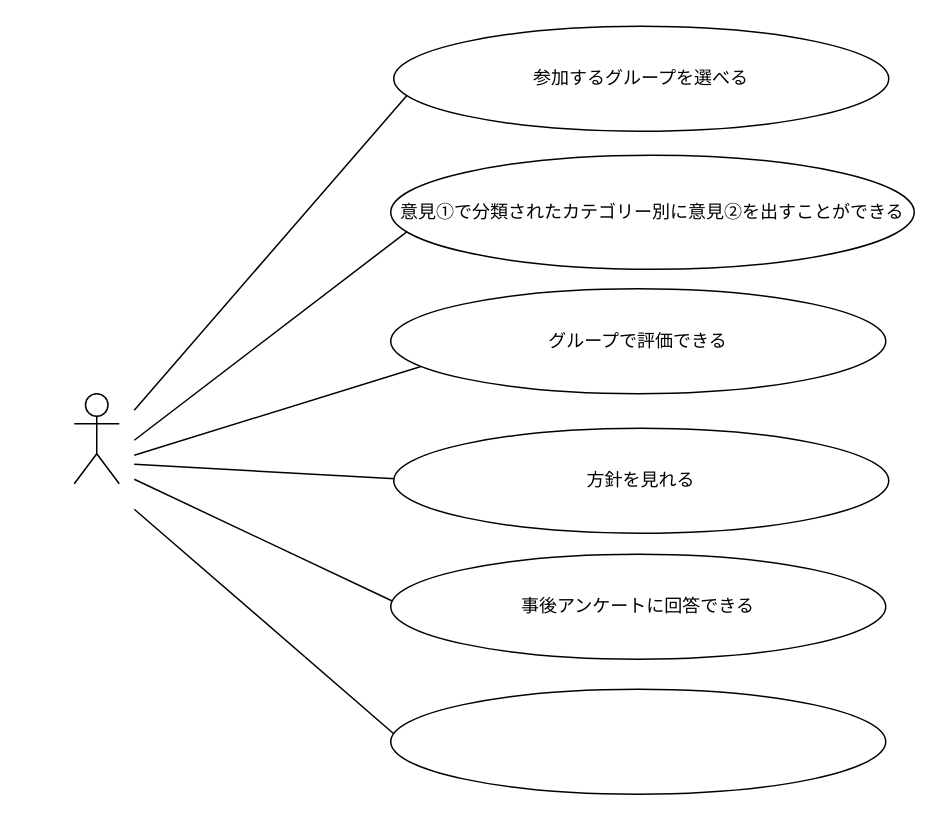
The diagram is 941 pixels wide and 821 high, and some of its shapes have lost their labels. Here are the shapes that lost their labels. From the top down, the centre of each, then its label:
At (96,438): "グループメンバー".
At (637,741): "ログアウトできる".
